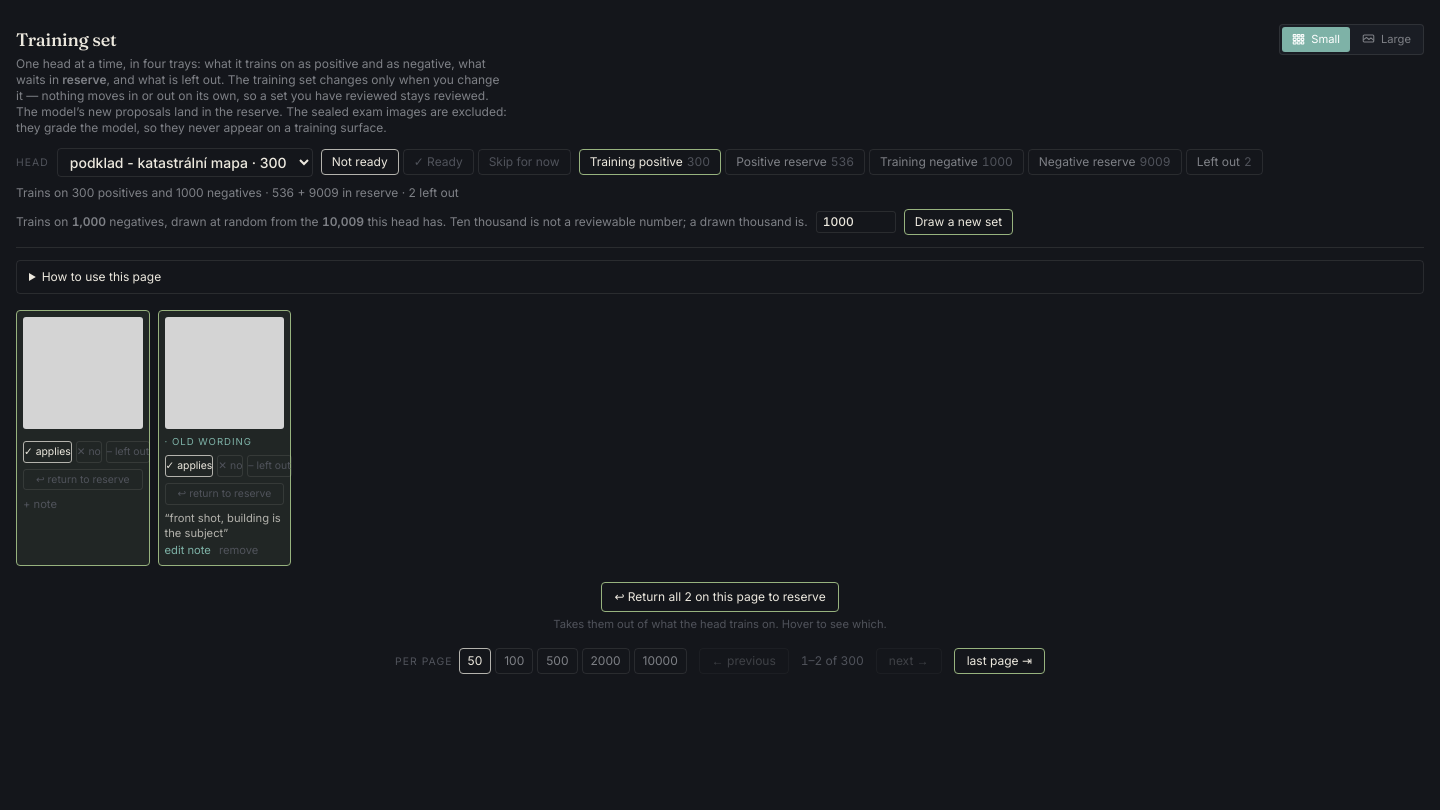
it: <NewDedupTrainingSet> changing a mark › writes a human label, admits the row, and moves the tray counts at once
The width and height of the screenshot is (1440, 810).
Step 1. Click the button with aria-label "negative 11" → point(89, 452), box [76,441,102,462]
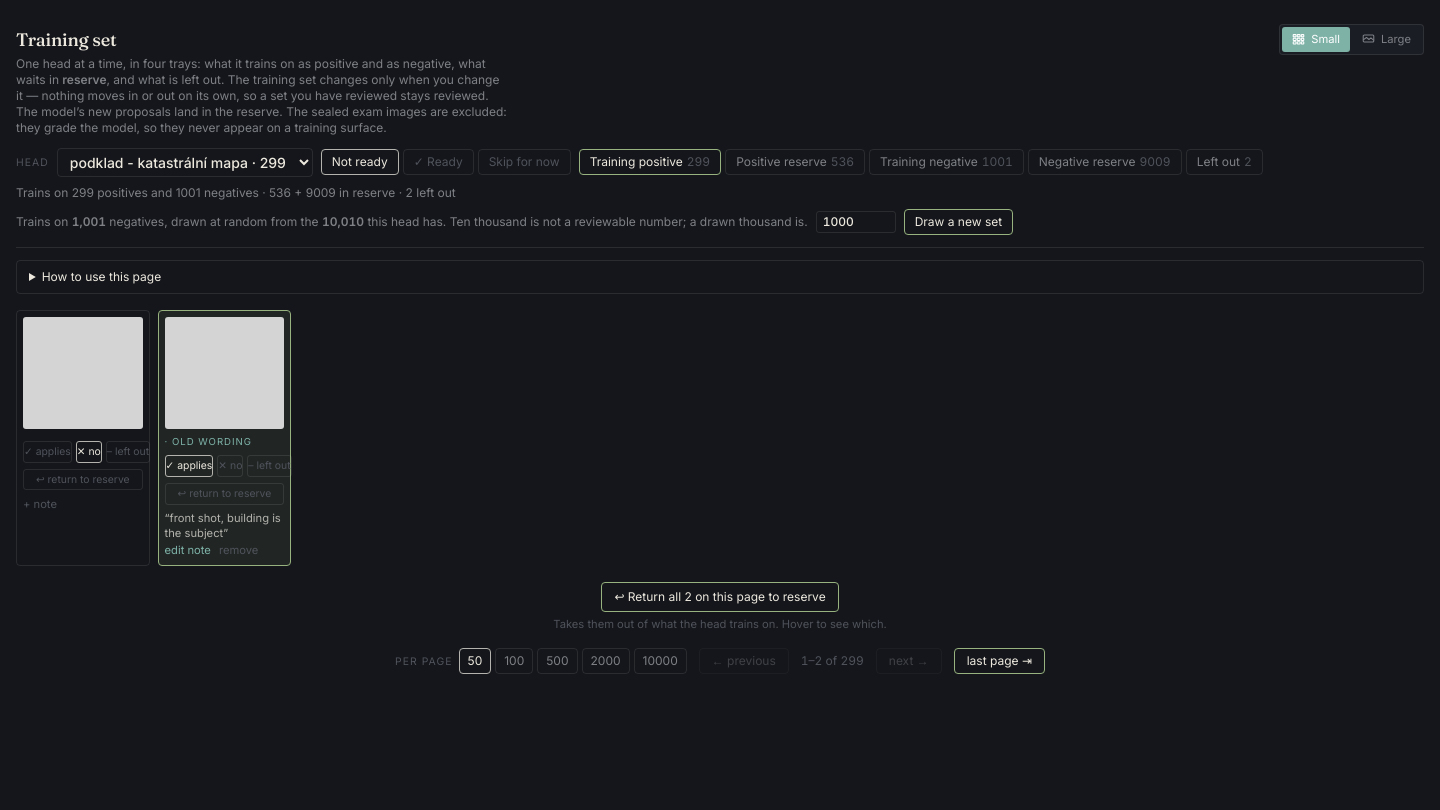
Expected: the text with test id "tray-count-positive" reads "299", [687,154,710,169]
Expected: the text with test id "tray-count-negative" reads "1001", [982,154,1013,169]
